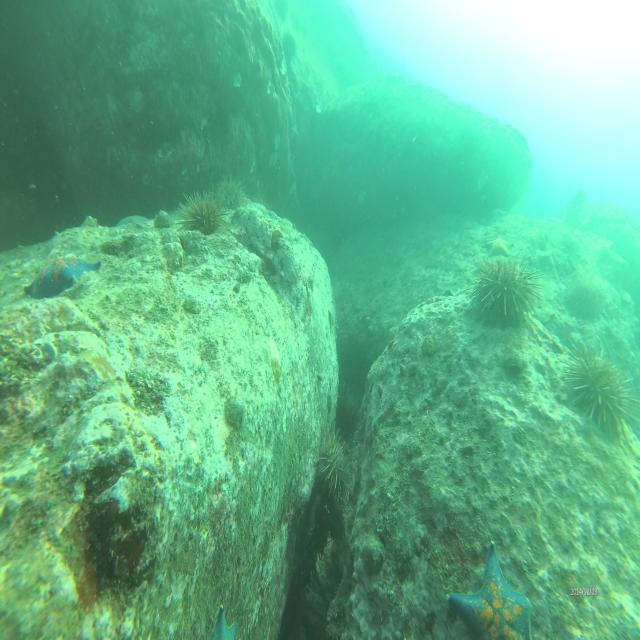echinus: (563, 338, 639, 442), (467, 257, 542, 328), (316, 417, 354, 518), (176, 189, 228, 237), (212, 176, 246, 212)
starfish: (445, 539, 533, 640), (25, 252, 101, 301)
